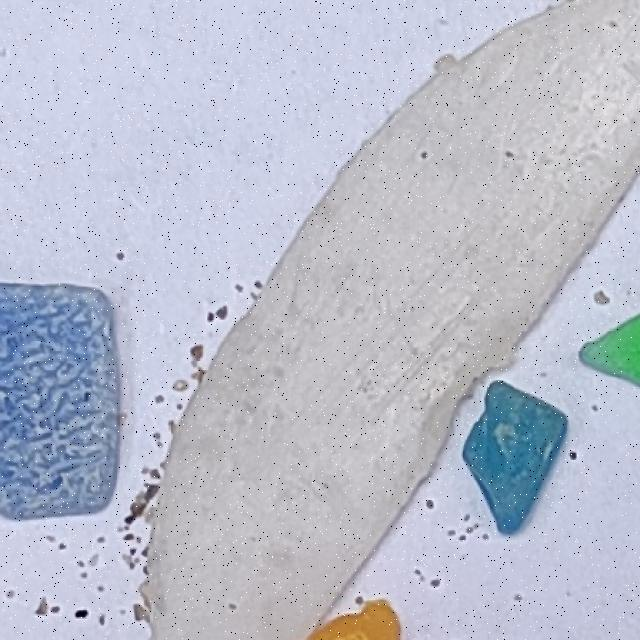fragments: (1, 281, 125, 524), (435, 377, 578, 544), (578, 312, 640, 390), (310, 597, 406, 640)
